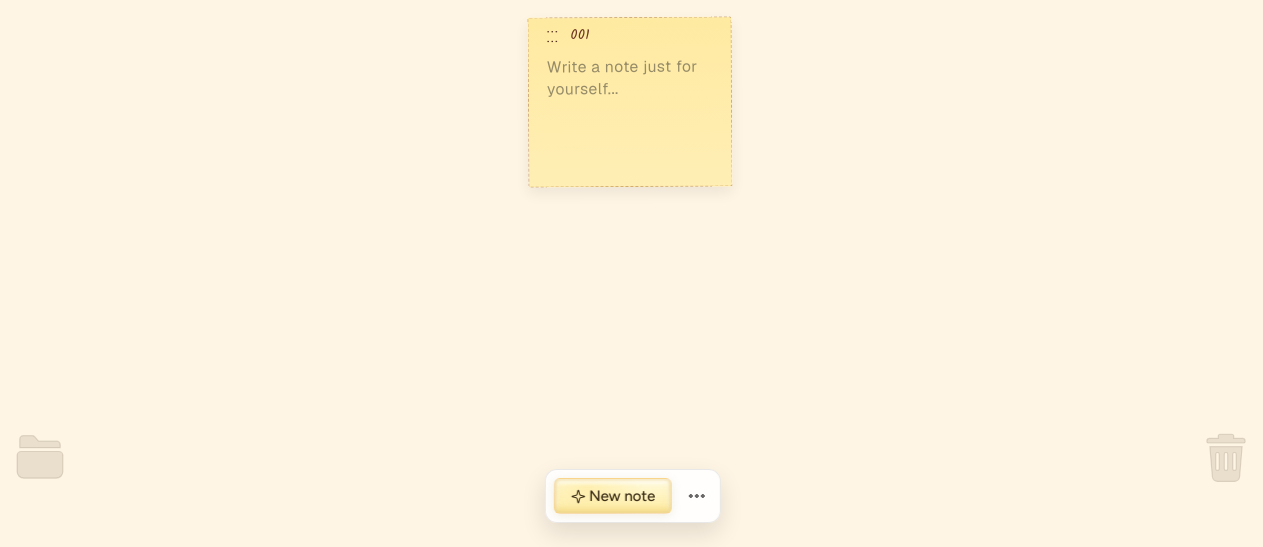
LocalNotes › collapses unselected toolbar colors until the current color is opened
The width and height of the screenshot is (1263, 547).
Click the button named "Open more actions, current new note color is yellow" at (697, 496), box [682,482,712,510]
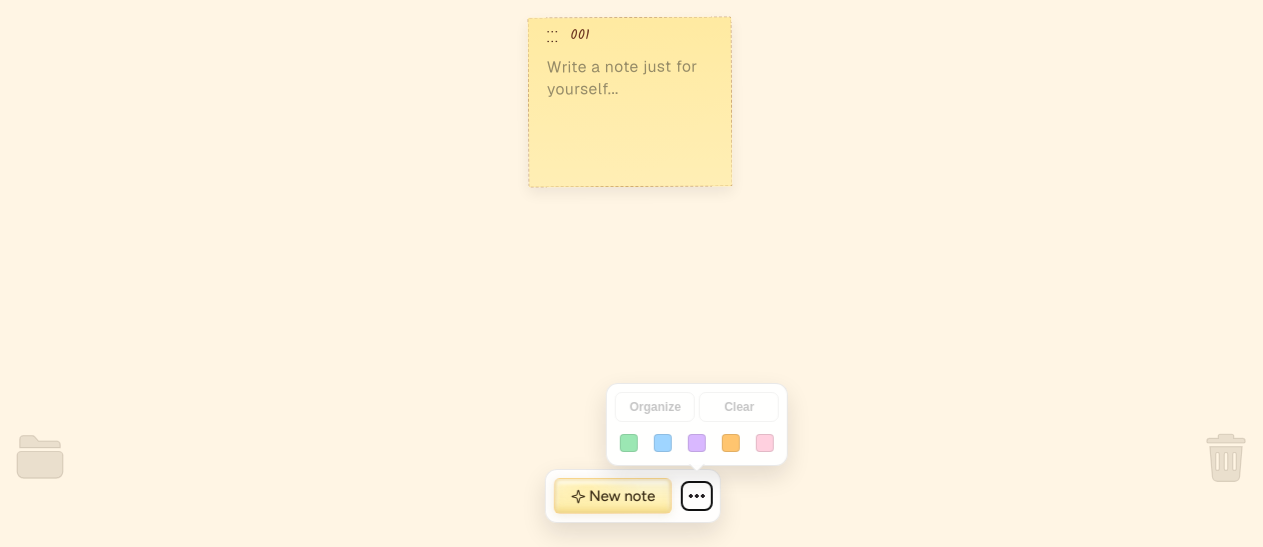
Click the button named "Select blue" at (663, 443), box [649,429,677,457]
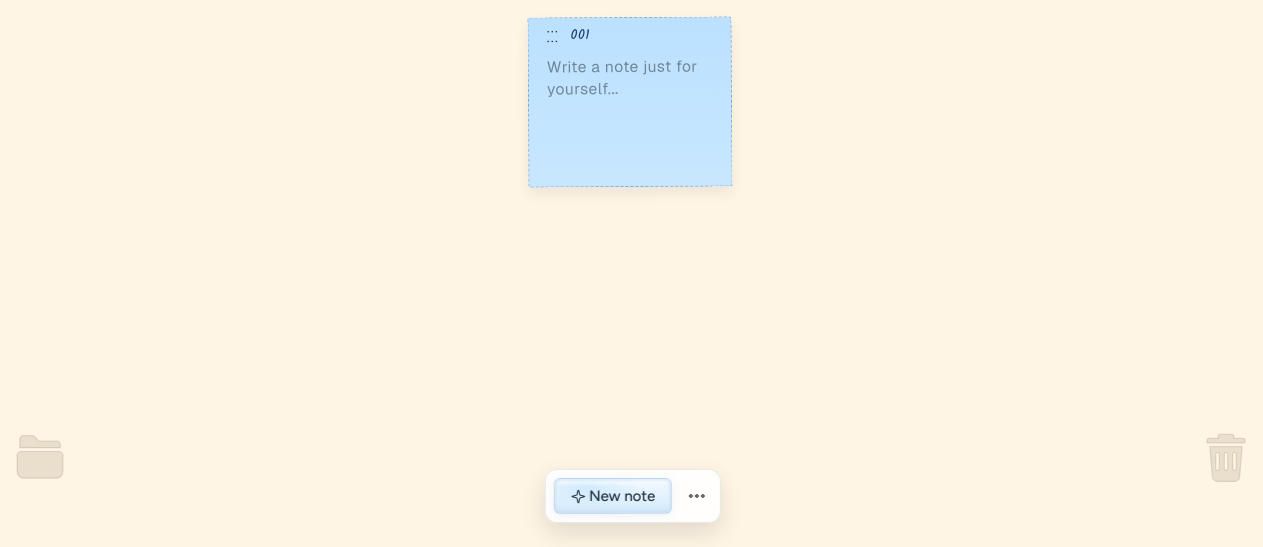
Now the button named "Open more actions, current new note color is blue" is shown, box [682,482,712,510]
